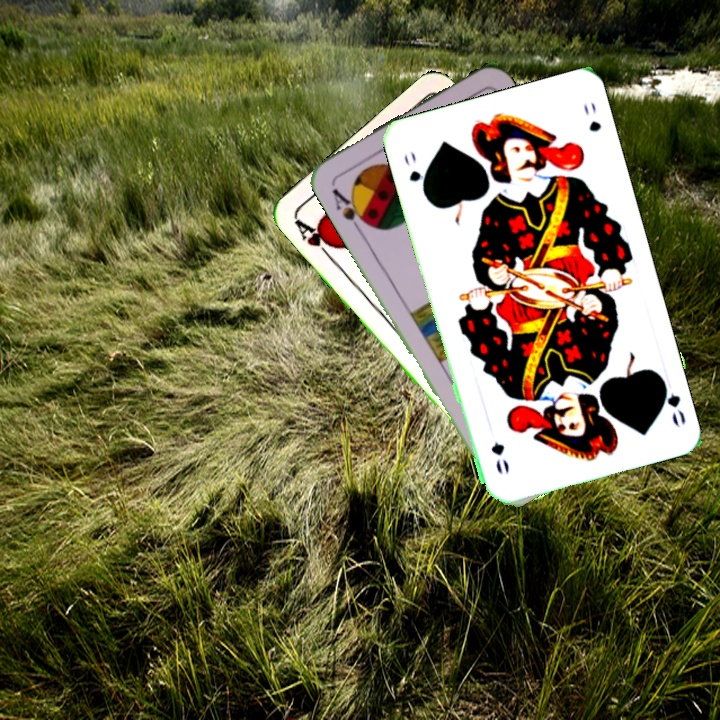GO: (656, 373, 689, 430), (399, 147, 429, 199)
HA: (290, 215, 340, 264)
SA: (328, 184, 373, 235)
